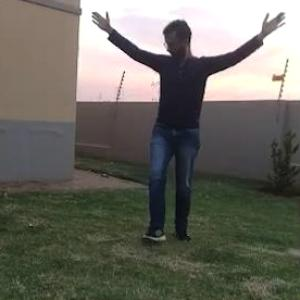takeoff: (67, 0, 299, 255)
